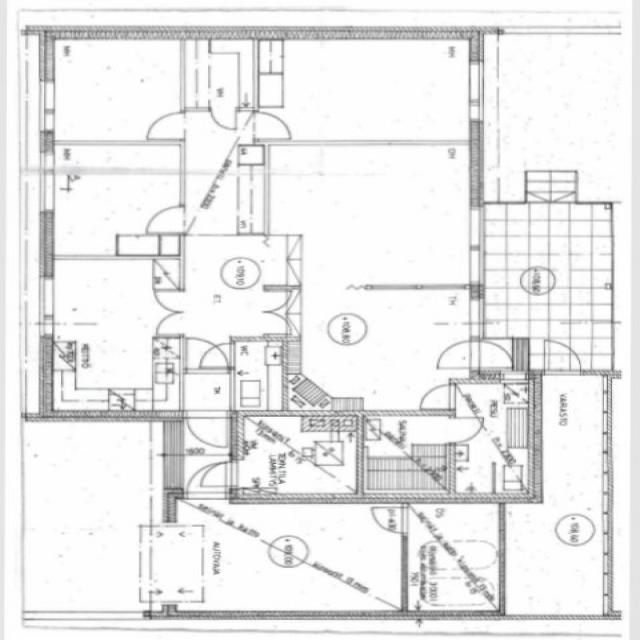door: (183, 456, 225, 499), (186, 411, 227, 454), (186, 337, 227, 374), (434, 341, 484, 368), (469, 341, 519, 368), (544, 341, 581, 375), (199, 461, 243, 486), (447, 418, 488, 444), (145, 206, 184, 233), (146, 113, 184, 139), (254, 112, 292, 138), (370, 508, 407, 534), (419, 384, 456, 409), (199, 343, 235, 368), (152, 292, 184, 314), (264, 313, 296, 334), (264, 292, 296, 313), (152, 314, 184, 334), (211, 107, 236, 131)
